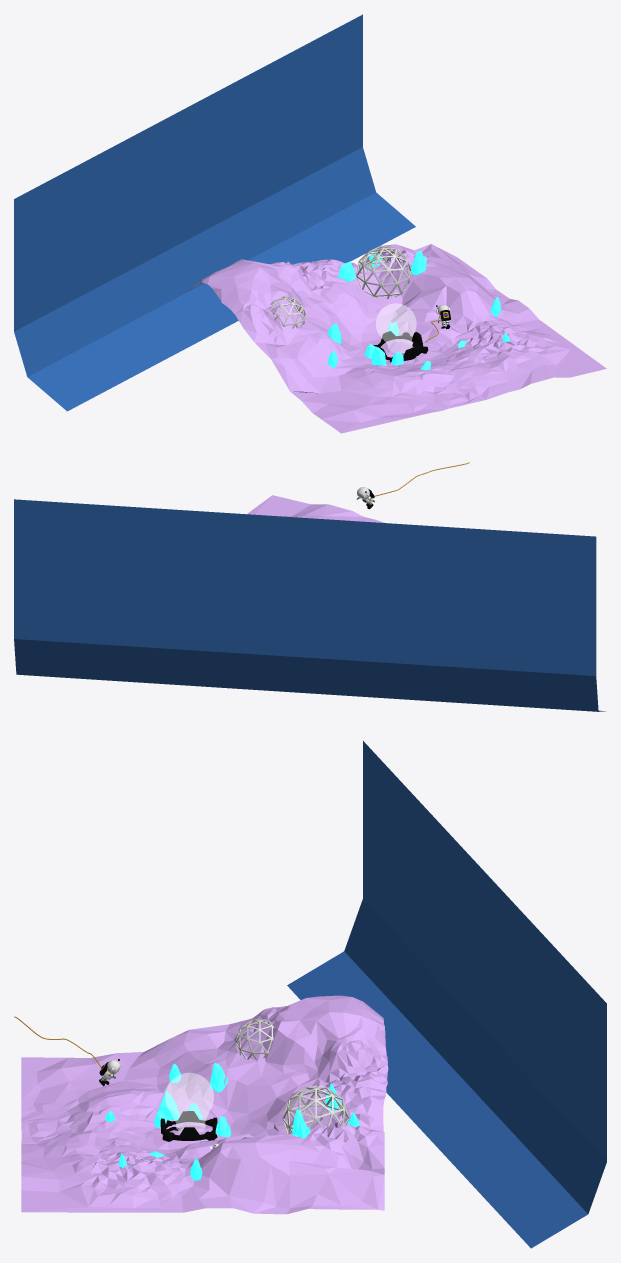
Rendered from astronaught.glb.
3 views of the same model, one above another, from view 1: azimuth 30°, elevation 25°; view 2: azimuth 150°, elevation 25°; view 3: azimuth 270°, elevation 25° (orthographic). The views are drawn at different scales.
Parts seen in each view (by area): view 1: bakedFloor, bakedModel, lightBulb; view 2: bakedFloor, bakedModel; view 3: bakedFloor, bakedModel, lightBulb.
Part boxes in pixels (bbox=[...]): bakedFloor: bbox=[14, 14, 606, 433]; bakedModel: bbox=[270, 246, 510, 370]; lightBulb: bbox=[376, 303, 416, 352]; bakedFloor: bbox=[14, 495, 605, 711]; bakedModel: bbox=[356, 462, 469, 509]; bakedFloor: bbox=[21, 741, 606, 1248]; bakedModel: bbox=[14, 1016, 359, 1180]; lightBulb: bbox=[165, 1073, 213, 1132].
Size of the model in its own units: 127 by 49.88 by 115.
